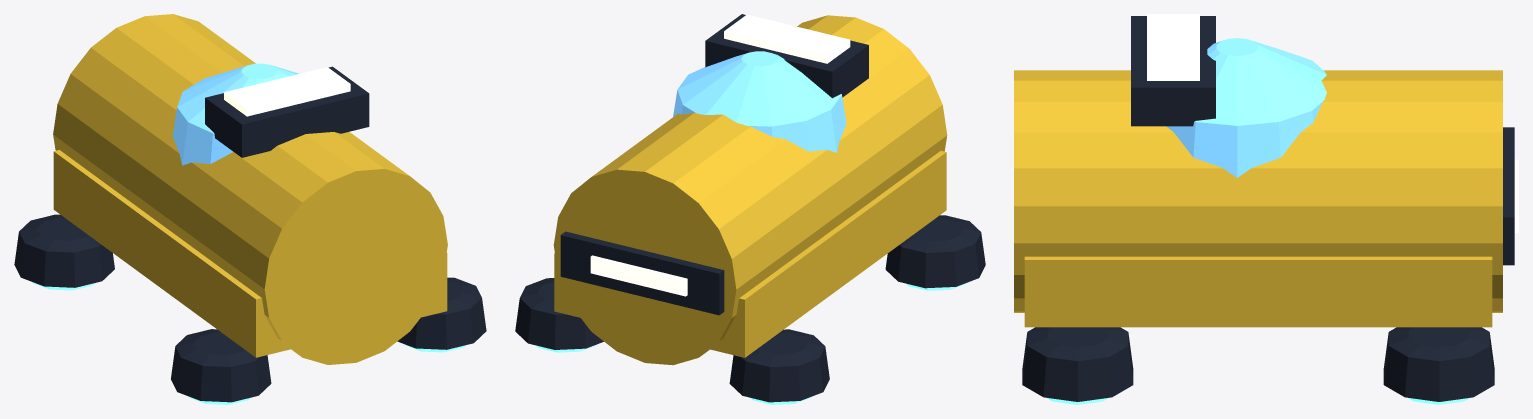
Rendered from air_taxi.glb.
3 renders of one model, left to right at view 1: azimuth 30°, elevation 25°; view 2: azimuth 150°, elevation 25°; view 3: azimuth 270°, elevation 25°, orthographic. The views are drawn at different scales.
Visible parts, largest first — view 1: LOD0; view 2: LOD0; view 3: LOD0.
Boxes of the visible parts, bbox=[...] form: LOD0: bbox=[14, 14, 486, 404]; LOD0: bbox=[515, 14, 985, 404]; LOD0: bbox=[1014, 14, 1518, 404].
Size of what is drawn, in the model's own units: 3.8 by 2.94 by 4.75.
